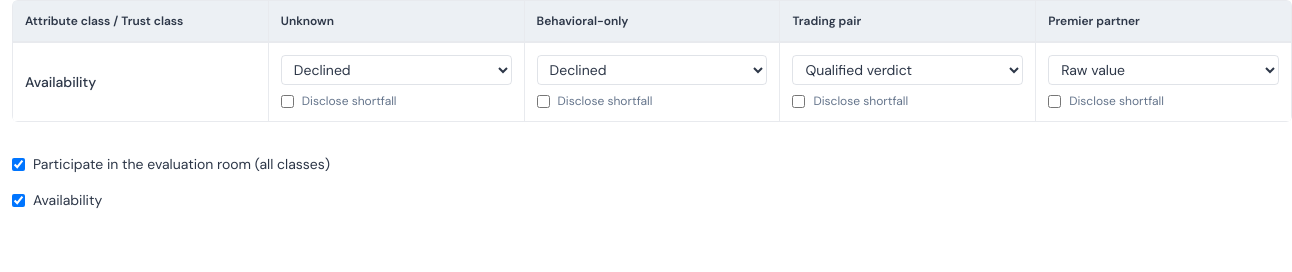
Test: DisclosurePolicyClient › I1: keeps the prior matrix cell and shows an alert when the matrix PUT is rejected
Select "Raw value" in the dropdown named "availability disclosure for trading_pair" at (908, 70), box [792,55,1023,85]
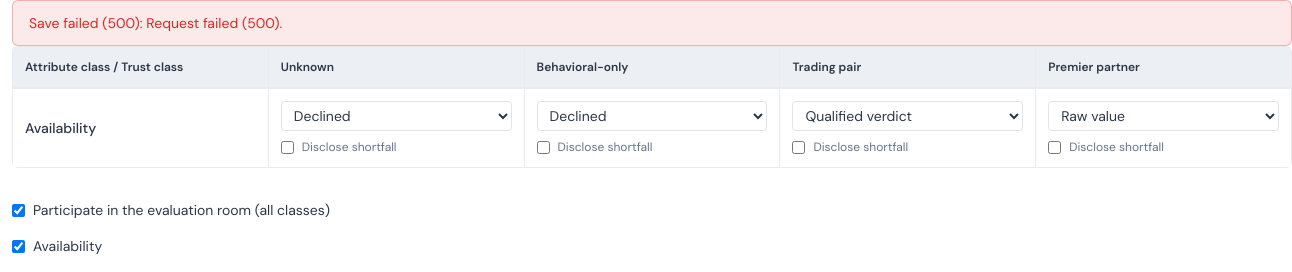
Check: the message "Save failed (500): Request failed (500)." is shown, box [12,0,1291,46]
